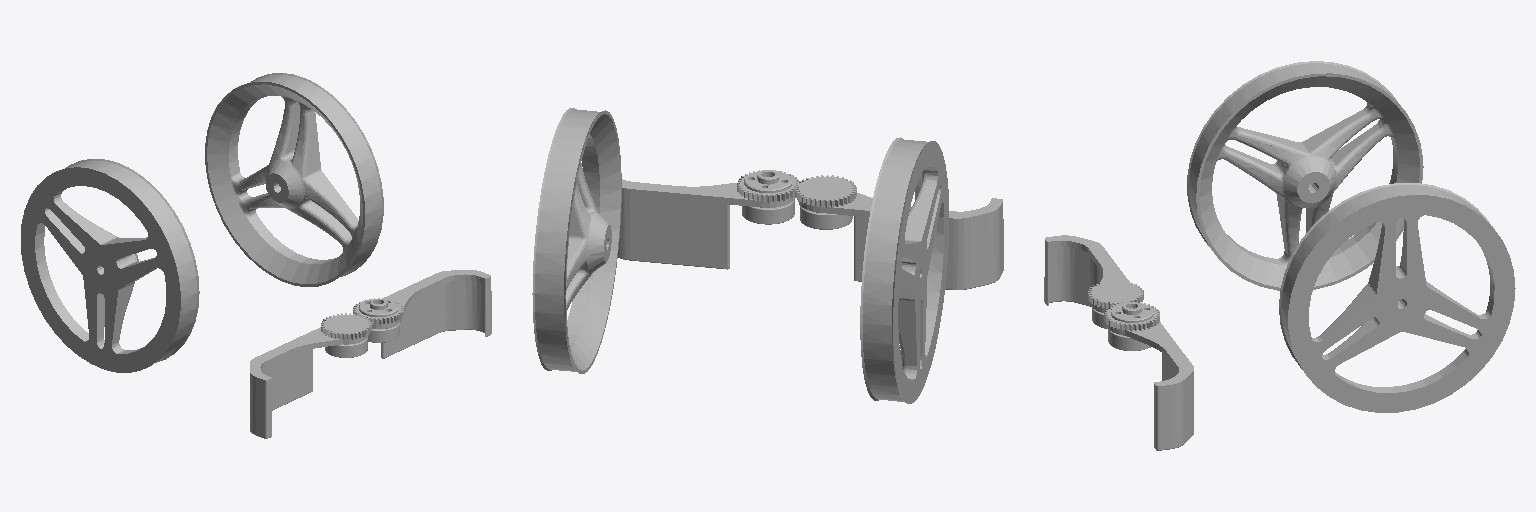
robot.urdf — irys_6_urdf:
<?xml version="1.0" encoding="utf-8"?>
<!-- This URDF was automatically created by SolidWorks to URDF Exporter! Originally created by Stephen Brawner (brawner@gmail.com) 
     Commit Version: 1.6.0-4-g7f85cfe  Build Version: 1.6.7995.38578
     For more information, please see http://wiki.ros.org/sw_urdf_exporter -->
<robot
  name="irys_6_urdf">
  <link
    name="Main_body">
    <inertial>
      <origin
        xyz="-0.0874539195672514 -0.0122269199902348 -0.00784246828234295"
        rpy="0 0 0" />
      <mass
        value="0.453793564265182" />
      <inertia
        ixx="0.000259863321416217"
        ixy="2.31428598746657E-07"
        ixz="4.09156459945878E-05"
        iyy="0.000429890392435455"
        iyz="8.05074980481899E-07"
        izz="0.000377152036248999" />
    </inertial>
    <visual>
      <origin
        xyz="0 0 0"
        rpy="0 0 0" />
      <geometry>
        <mesh
          filename="package://irys_6_urdf/meshes/Main_body.STL" />
      </geometry>
      <material
        name="">
        <color
          rgba="0.752941176470588 0.752941176470588 0.752941176470588 1" />
      </material>
    </visual>
    <collision>
      <origin
        xyz="0 0 0"
        rpy="0 0 0" />
      <geometry>
        <mesh
          filename="package://irys_6_urdf/meshes/Main_body.STL" />
      </geometry>
    </collision>
  </link>
  <link
    name="Wheel_right">
    <inertial>
      <origin
        xyz="-0.011528943198384 2.80391338127427E-06 0.00369096576643183"
        rpy="0 0 0" />
      <mass
        value="0.0537149612564686" />
      <inertia
        ixx="8.57127093914998E-05"
        ixy="-9.69598740401909E-09"
        ixz="-1.27788454440152E-05"
        iyy="4.57874409692143E-05"
        iyz="3.09718997540969E-09"
        izz="4.98774458899122E-05" />
    </inertial>
    <visual>
      <origin
        xyz="0 0 0"
        rpy="0 0 0" />
      <geometry>
        <mesh
          filename="package://irys_6_urdf/meshes/Wheel_right.STL" />
      </geometry>
      <material
        name="">
        <color
          rgba="0.752941176470588 0.752941176470588 0.752941176470588 1" />
      </material>
    </visual>
    <collision>
      <origin
        xyz="0 0 0"
        rpy="0 0 0" />
      <geometry>
        <mesh
          filename="package://irys_6_urdf/meshes/Wheel_right.STL" />
      </geometry>
    </collision>
  </link>
  <joint
    name="Wheel_right"
    type="continuous">
    <origin
      xyz="-0.15013 0.013421 -0.011824"
      rpy="1.5708 0 0" />
    <parent
      link="Main_body" />
    <child
      link="Wheel_right" />
    <axis
      xyz="0.95241 -0.00023119 -0.30483" />
  </joint>
  <link
    name="Wheel_left">
    <inertial>
      <origin
        xyz="-0.00958630182987512 2.31271003369934E-06 0.00306918750080176"
        rpy="0 0 0" />
      <mass
        value="0.0537149466294839" />
      <inertia
        ixx="8.57127941638458E-05"
        ixy="-9.69243811557028E-09"
        ixz="-1.27787017005565E-05"
        iyy="4.57874356286686E-05"
        iyz="3.10972716040227E-09"
        izz="4.98773321884887E-05" />
    </inertial>
    <visual>
      <origin
        xyz="0 0 0"
        rpy="0 0 0" />
      <geometry>
        <mesh
          filename="package://irys_6_urdf/meshes/Wheel_left.STL" />
      </geometry>
      <material
        name="">
        <color
          rgba="0.752941176470588 0.752941176470588 0.752941176470588 1" />
      </material>
    </visual>
    <collision>
      <origin
        xyz="0 0 0"
        rpy="0 0 0" />
      <geometry>
        <mesh
          filename="package://irys_6_urdf/meshes/Wheel_left.STL" />
      </geometry>
    </collision>
  </link>
  <joint
    name="Wheel_left"
    type="continuous">
    <origin
      xyz="-0.017849 0.055759 -0.011856"
      rpy="1.5708 0 0" />
    <parent
      link="Main_body" />
    <child
      link="Wheel_left" />
    <axis
      xyz="0.95241 -0.00023119 -0.30483" />
    <mimic
      joint="Wheel_right"
      multiplier="1"
      offset="0" />
  </joint>
  <link
    name="Grabber_right">
    <inertial>
      <origin
        xyz="-0.021764640769758 -0.0117677988714972 0.0143878159478144"
        rpy="0 0 0" />
      <mass
        value="0.0105279812266397" />
      <inertia
        ixx="3.27694469938928E-06"
        ixy="-6.62143034378257E-07"
        ixz="2.31385963602831E-06"
        iyy="5.492706217497E-06"
        iyz="4.26763734604977E-07"
        izz="3.82909401272448E-06" />
    </inertial>
    <visual>
      <origin
        xyz="0 0 0"
        rpy="0 0 0" />
      <geometry>
        <mesh
          filename="package://irys_6_urdf/meshes/Grabber_right.STL" />
      </geometry>
      <material
        name="">
        <color
          rgba="0.752941176470588 0.752941176470588 0.752941176470588 1" />
      </material>
    </visual>
    <collision>
      <origin
        xyz="0 0 0"
        rpy="0 0 0" />
      <geometry>
        <mesh
          filename="package://irys_6_urdf/meshes/Grabber_right.STL" />
      </geometry>
    </collision>
  </link>
  <joint
    name="Grabber_right"
    type="revolute">
    <origin
      xyz="-0.072745 -0.077102 -0.029785"
      rpy="1.5709 -0.00030448 -0.41312" />
    <parent
      link="Main_body" />
    <child
      link="Grabber_right" />
    <axis
      xyz="0 1 -0.00075842" />
    <limit
      lower="0"
      upper="1.57"
      effort="0"
      velocity="0" />
  </joint>
  <link
    name="Grabber_left">
    <inertial>
      <origin
        xyz="0.025333969932915 -0.0153203978173541 -0.00205793541869451"
        rpy="0 0 0" />
      <mass
        value="0.0108042920100823" />
      <inertia
        ixx="1.24612247933652E-06"
        ixy="7.86310473338874E-07"
        ixz="-2.82289098494667E-07"
        iyy="5.50259383156628E-06"
        iyz="-7.28301341303389E-08"
        izz="5.87166945710156E-06" />
    </inertial>
    <visual>
      <origin
        xyz="0 0 0"
        rpy="0 0 0" />
      <geometry>
        <mesh
          filename="package://irys_6_urdf/meshes/Grabber_left.STL" />
      </geometry>
      <material
        name="">
        <color
          rgba="0.752941176470588 0.752941176470588 0.752941176470588 1" />
      </material>
    </visual>
    <collision>
      <origin
        xyz="0 0 0"
        rpy="0 0 0" />
      <geometry>
        <mesh
          filename="package://irys_6_urdf/meshes/Grabber_left.STL" />
      </geometry>
    </collision>
  </link>
  <joint
    name="Grabber_left"
    type="revolute">
    <origin
      xyz="-0.049412 -0.069631 -0.025865"
      rpy="1.5708 0.00027235 0.3673" />
    <parent
      link="Main_body" />
    <child
      link="Grabber_left" />
    <axis
      xyz="0 1 -0.00075842" />
    <limit
      lower="-1.57"
      upper="0"
      effort="0"
      velocity="0" />
    <mimic
      joint="Grabber_right"
      multiplier="-1"
      offset="0" />
  </joint>
</robot>

--- Facts derived from the render (not from the file) ---
3 views of the same robot in one strip: view 1: azimuth 30°, elevation 25°; view 2: azimuth 150°, elevation 25°; view 3: azimuth 270°, elevation 25° (orthographic).
Robot: irys_6_urdf — 5 links, 4 joints (2 revolute, 2 continuous); root link Main_body; default pose: all joints at 0.
Visible links, largest first — view 1: Wheel_left, Wheel_right, Grabber_left, Grabber_right; view 2: Wheel_right, Wheel_left, Grabber_left, Grabber_right; view 3: Wheel_left, Wheel_right, Grabber_left, Grabber_right.
Link boxes in pixels (bbox=[...]): Wheel_left: bbox=[205, 73, 383, 286]; Wheel_right: bbox=[21, 159, 199, 372]; Grabber_left: bbox=[353, 270, 491, 358]; Grabber_right: bbox=[250, 313, 371, 438]; Wheel_right: bbox=[860, 137, 948, 403]; Wheel_left: bbox=[532, 108, 621, 373]; Grabber_left: bbox=[618, 170, 798, 269]; Grabber_right: bbox=[795, 175, 1003, 289]; Wheel_left: bbox=[1279, 183, 1515, 412]; Wheel_right: bbox=[1187, 61, 1423, 290]; Grabber_left: bbox=[1104, 302, 1193, 450]; Grabber_right: bbox=[1044, 235, 1143, 328].
Size in the robot's own frame: 0.2075 by 0.217 by 0.11 metres.
Meshes: 5 distinct files referenced, 4 mesh visuals loaded (4 binary STL); not drawn: 1 (reference not matched to a file when rendering).
